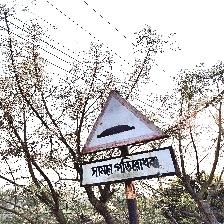Speed-breaker: (79, 90, 178, 188)
